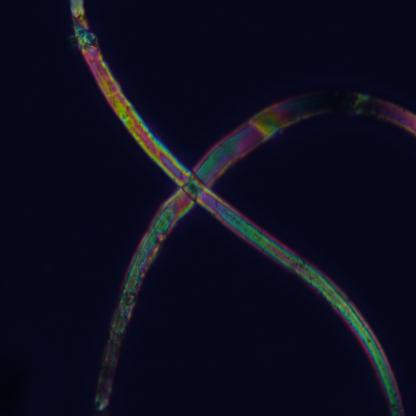Microfibre: (69, 0, 407, 414), (95, 87, 416, 413)
